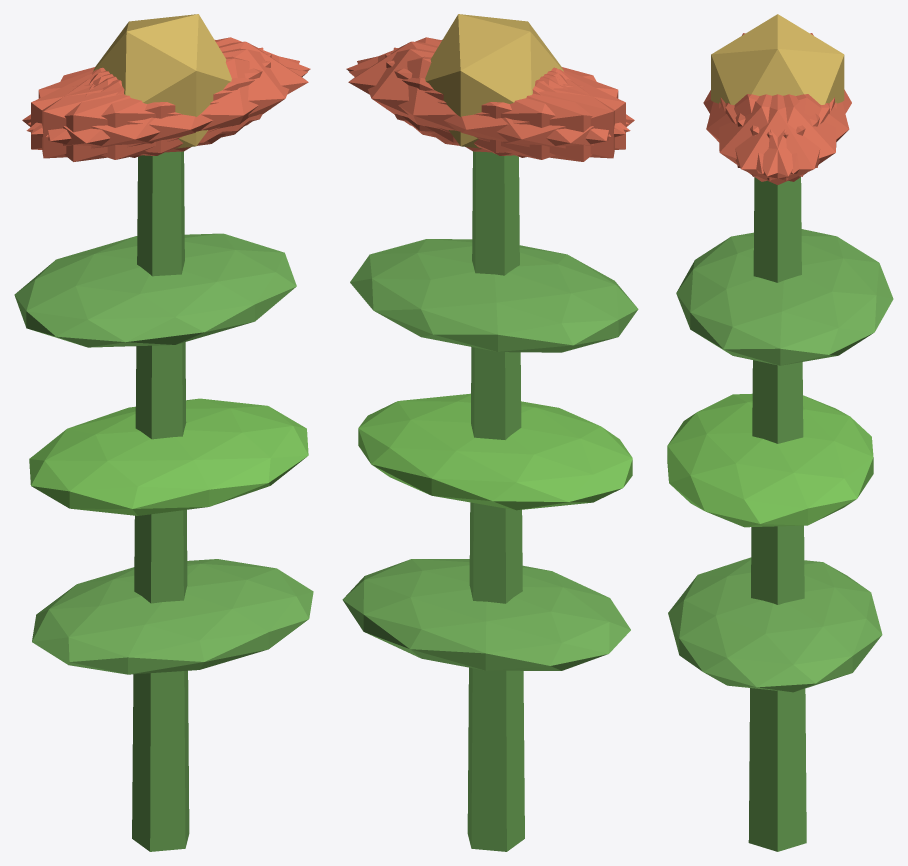
Rendered from styphnolobium-japonicum.glb.
3 views of the same model, side by side, from view 1: azimuth 30°, elevation 25°; view 2: azimuth 150°, elevation 25°; view 3: azimuth 270°, elevation 25° (orthographic).
Parts seen in each view (by area): view 1: stem, leaf1, leaf0, leaf2, center, petal1, petal6, petal2, petal5, petal7, petal0, petal4 (+2 smaller); view 2: stem, leaf2, leaf0, leaf1, center, petal8, petal3, petal7, petal4, petal2, petal0, petal5 (+2 smaller); view 3: stem, leaf2, leaf0, leaf1, center, petal0, petal4, petal5, petal8, petal1.
Boxes of the visible parts, x1,y1,x2,y2 form: stem: (132, 151, 189, 851); leaf1: (29, 398, 308, 515); leaf0: (32, 559, 313, 674); leaf2: (14, 233, 296, 347); center: (93, 14, 231, 148); petal1: (26, 56, 307, 159); petal6: (22, 69, 225, 161); petal2: (42, 47, 263, 158); petal5: (46, 48, 299, 152); petal7: (31, 53, 271, 155); petal0: (93, 41, 308, 142); petal4: (28, 37, 310, 134); stem: (467, 151, 524, 851); leaf2: (350, 239, 638, 352); leaf0: (342, 559, 630, 670); leaf1: (358, 393, 632, 510); center: (425, 14, 563, 148); petal8: (349, 56, 630, 159); petal3: (431, 69, 634, 161); petal7: (393, 47, 614, 158); petal4: (357, 48, 611, 152); petal2: (385, 53, 625, 155); petal0: (348, 41, 563, 142); petal5: (346, 37, 628, 134); stem: (748, 177, 806, 851); leaf2: (676, 229, 893, 365); leaf0: (668, 557, 882, 692); leaf1: (667, 393, 873, 527); center: (711, 14, 844, 104); petal0: (720, 94, 834, 184); petal4: (725, 94, 836, 181); petal5: (719, 94, 829, 181); petal8: (735, 94, 849, 173); petal1: (706, 94, 819, 173).
Bounding box in the file's own units: 0.1452 × 0.4095 × 0.1039.
